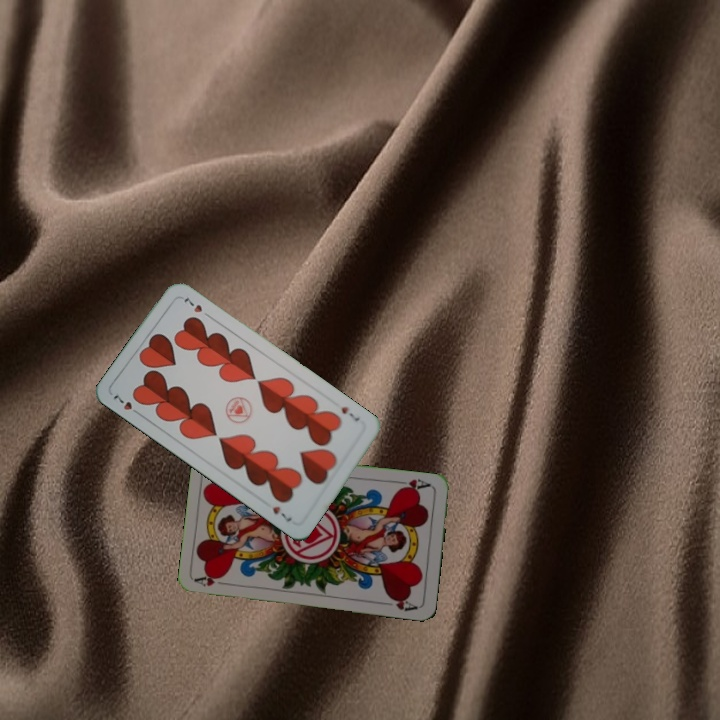H7: (109, 391, 144, 418), (337, 402, 363, 425)
HA: (394, 474, 433, 494), (192, 571, 233, 589)
